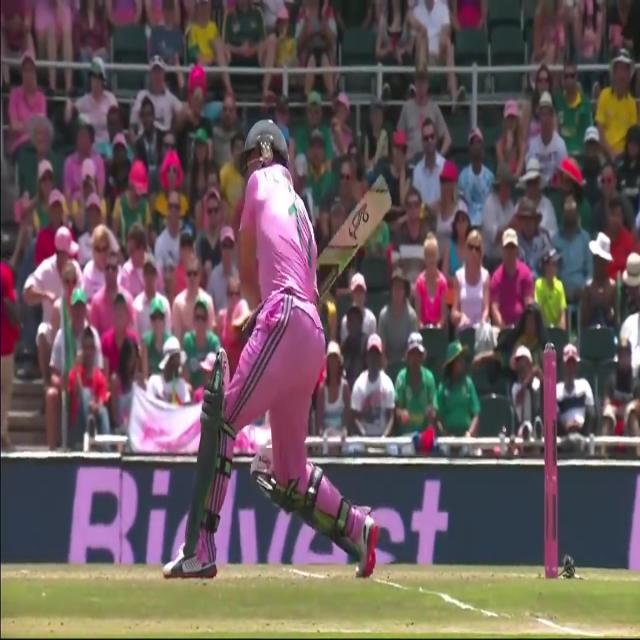Ball: (159, 117, 384, 582)
